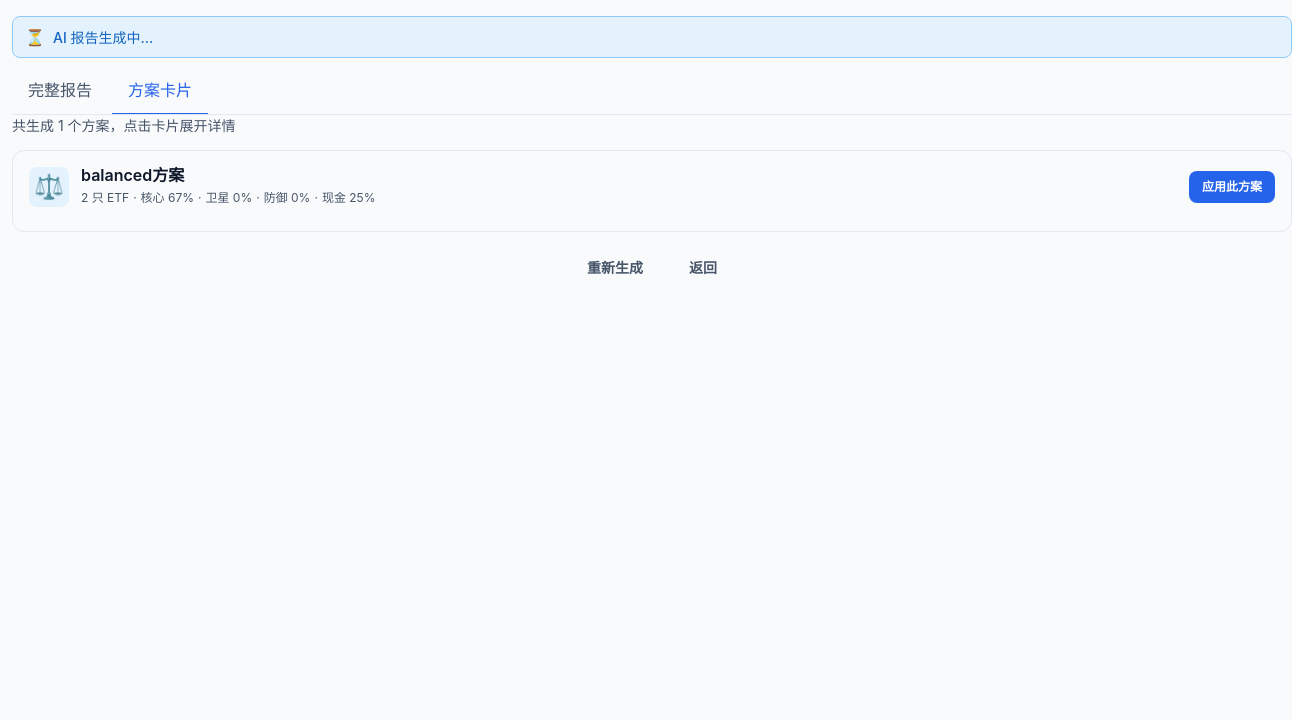
Test: DesignResult round22 E5 correlation_unchecked 提示 › plan.risk_metrics.correlation_unchecked=true 时显示「关联度未校验」提示（负向：静默跳过无标注 → FAIL）
Step 1. Click the element with class "plan-card" → {"x": 652, "y": 191}, box [12,150,1291,232]
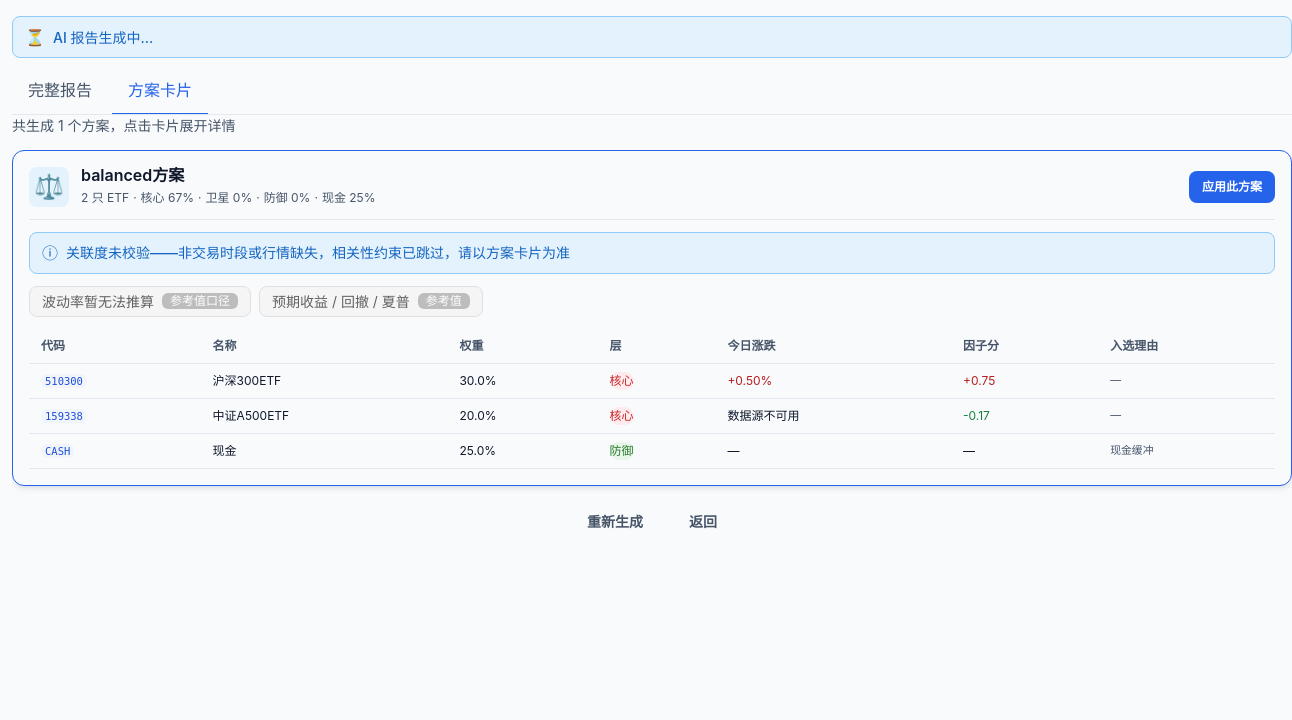
Check: the message "ⓘ 关联度未校验——非交易时段或行情缺失，相关性约束已跳过，请以方案卡片为准" is shown, box [29,232,1275,274]
Check: the message with class "corr-unchecked-note" shows "关联度未校验", box [66,244,570,261]
Check: the message with class "corr-unchecked-note" shows "相关性约束已跳过", box [66,244,570,261]
